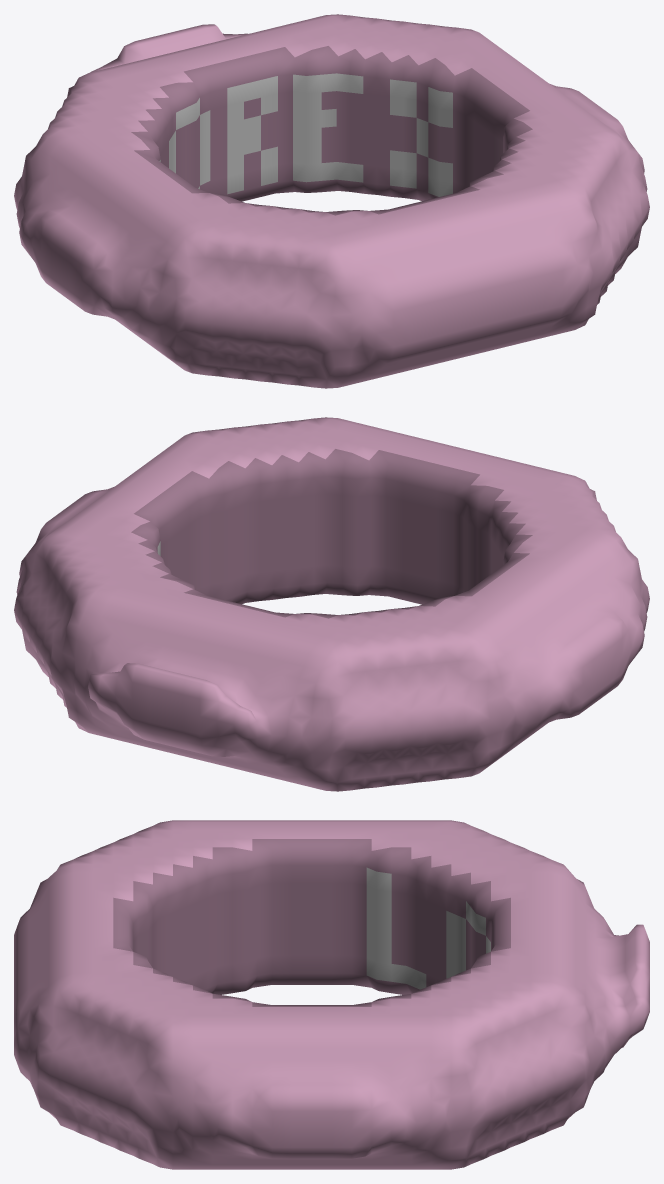
The picture shows the model from 3 angles, top to bottom: view 1: azimuth 30°, elevation 25°; view 2: azimuth 150°, elevation 25°; view 3: azimuth 270°, elevation 25°; orthographic projection.
Bounding box in the file's own units: 1.6 × 0.4 × 1.6.
